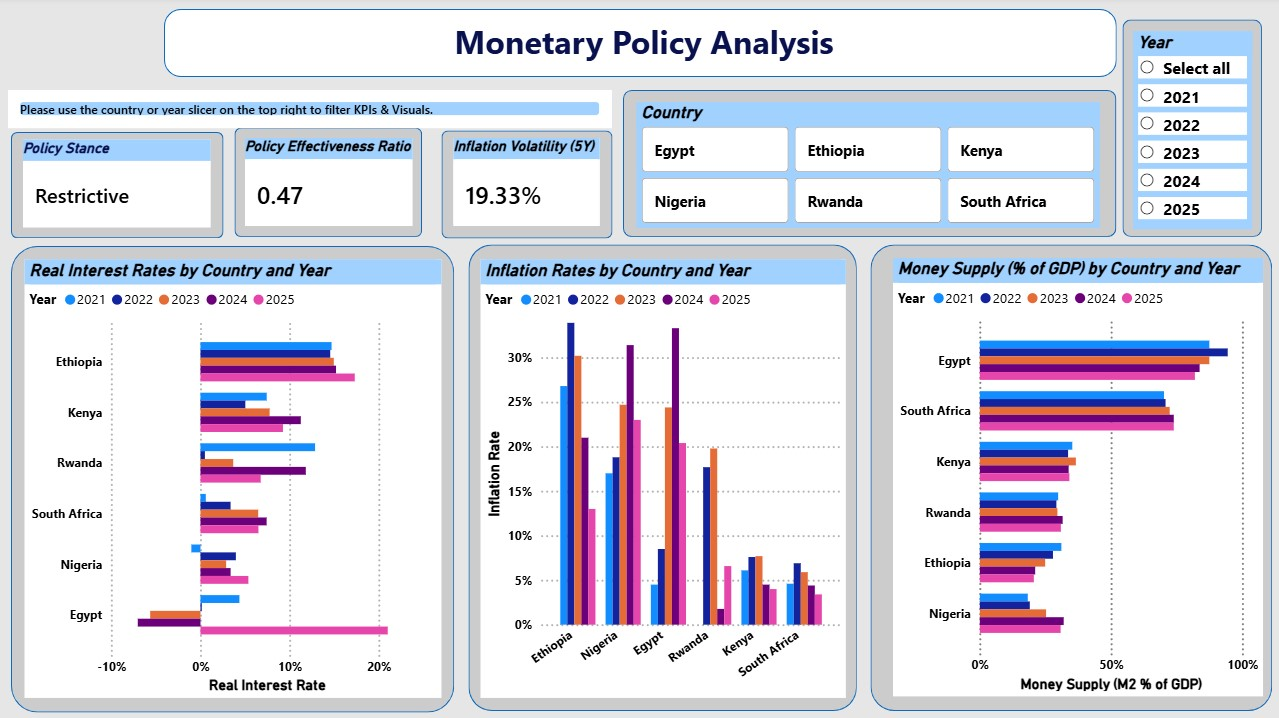

The dashboard page shown, as its layout file describes it:
{"tool":"powerbi","page":{"name":"Monetary Policy Analysis","canvas":[1280,720],"ordinal":2},"visuals":[{"type":"shape","box":[470.5,246,386.3,463.9],"z":0},{"type":"shape","box":[166.7,11.6,947.6,67.7],"z":1000},{"type":"shape","box":[870,246,399.5,463.9],"z":2000},{"type":"shape","box":[624,92.6,490.6,146.3],"z":3000},{"type":"advancedSlicerVisual","fields":{"Values":["Dim_Country.Country"]},"box":[637.3,104,460.6,125.5],"z":4000},{"type":"shape","box":[1121,23.1,138.7,216.3],"z":5000},{"type":"listSlicer","fields":{"Values":["Dim_Year.Year"]},"box":[1130.9,34.7,118.9,196.5],"z":6000},{"type":"shape","box":[14.9,247.6,440.8,463.9],"z":7000},{"type":"clusteredBarChart","title":"Real Interest Rates by Country and Year","fields":{"Category":["Dim_Country.Country"],"Series":["Dim_Year.Year"],"Y":["Fact_Macro.Real Interest Rate"]},"box":[28.1,260.8,414.4,435.8],"z":8000},{"type":"clusteredColumnChart","title":"Inflation Rates by Country and Year","fields":{"Category":["Dim_Country.Country"],"Series":["Dim_Year.Year"],"Y":["Fact_Macro.Inflation Rate"]},"box":[482.1,260.8,363.2,435.8],"z":9000},{"type":"shape","box":[14.9,133.7,211.3,105.7],"z":10000},{"type":"shape","box":[442.4,132.1,170,107.3],"z":11000},{"type":"shape","box":[237.7,130.4,186.6,109],"z":12000},{"type":"cardVisual","fields":{"Data":["Fact_Macro.KPI Instruction Text"]},"box":[11.6,92.5,600.9,38],"z":13000},{"type":"clusteredBarChart","title":"Money Supply (% of GDP) by Country and Year","fields":{"Category":["Dim_Country.Country"],"Series":["Dim_Year.Year"],"Y":["Fact_Macro.Money Supply (M2 % of GDP)"]},"box":[891.5,259.2,368.2,435.8],"z":14000},{"type":"cardVisual","title":"Policy Stance","fields":{"Data":["Fact_Macro.Policy Stance"]},"box":[26.4,142,186.6,87.5],"z":15000},{"type":"cardVisual","title":"Inflation Volatility (5Y)","fields":{"Data":["Fact_Macro.Inflation Volatility (5Y)"]},"box":[455.7,140.3,145.3,87.5],"z":16000},{"type":"cardVisual","title":"Policy Effectiveness Ratio","fields":{"Data":["Fact_Macro.Policy Effectiveness Ratio"]},"box":[247.6,140.3,166.7,87.5],"z":17000},{"type":"textbox","box":[181.6,16.5,916.3,59.4],"z":18000}]}

Visuals, with their boxes in screenshot pixels (x1, y1, x2, y2), scaled from the page's 1280x720 canvas onto the 1279x718 screenshot:
shape: (470, 245, 856, 708)
shape: (167, 12, 1113, 79)
shape: (869, 245, 1269, 708)
shape: (624, 92, 1114, 238)
advancedSlicerVisual - Dim_Country.Country: (637, 104, 1097, 229)
shape: (1120, 23, 1259, 239)
listSlicer - Dim_Year.Year: (1130, 35, 1249, 231)
shape: (15, 247, 455, 710)
"Real Interest Rates by Country and Year" clusteredBarChart: (28, 260, 442, 695)
"Inflation Rates by Country and Year" clusteredColumnChart: (482, 260, 845, 695)
shape: (15, 133, 226, 239)
shape: (442, 132, 612, 239)
shape: (238, 130, 424, 239)
cardVisual - Fact_Macro.KPI Instruction Text: (12, 92, 612, 130)
"Money Supply (% of GDP) by Country and Year" clusteredBarChart: (891, 258, 1259, 693)
"Policy Stance" cardVisual: (26, 142, 213, 229)
"Inflation Volatility (5Y)" cardVisual: (455, 140, 601, 227)
"Policy Effectiveness Ratio" cardVisual: (247, 140, 414, 227)
textbox: (181, 16, 1097, 76)
